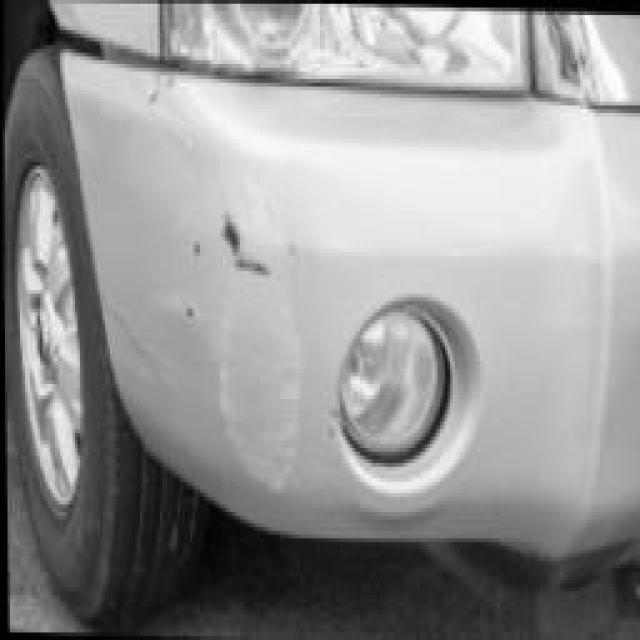Bumper: (85, 94, 352, 507)
